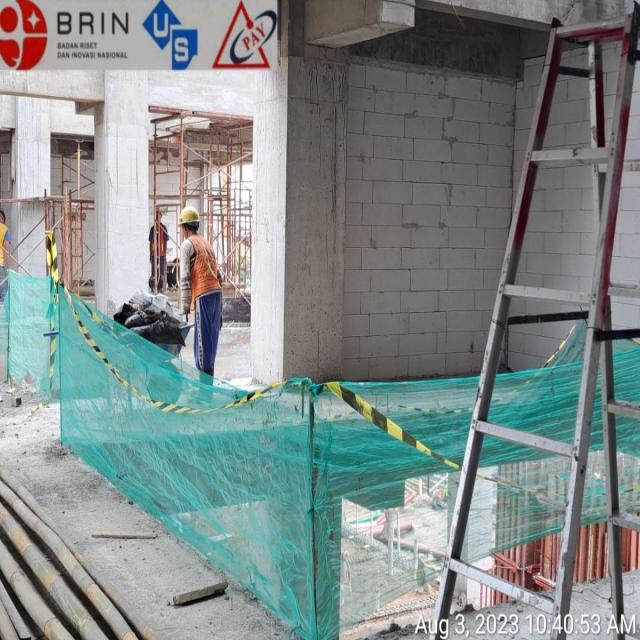Helmet: (162, 194, 216, 238)
Safety Vest: (170, 229, 238, 306)
